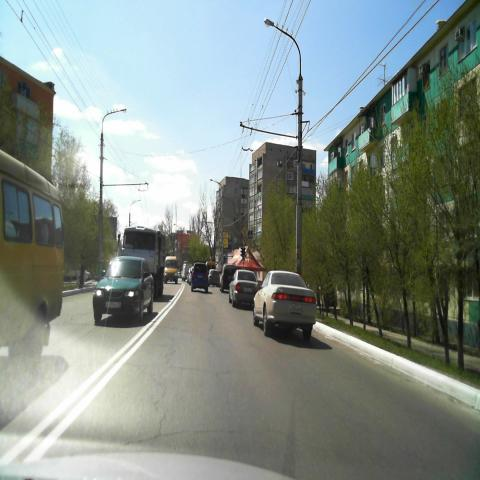2_1: (242, 226, 248, 236)
3_18_2: (241, 237, 246, 246)
5_19_1: (248, 230, 252, 237)
